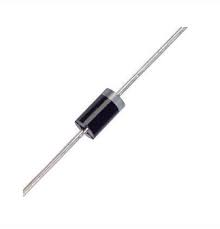diode: (67, 81, 136, 149)
